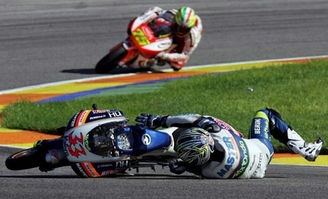falling: (86, 0, 210, 78)
